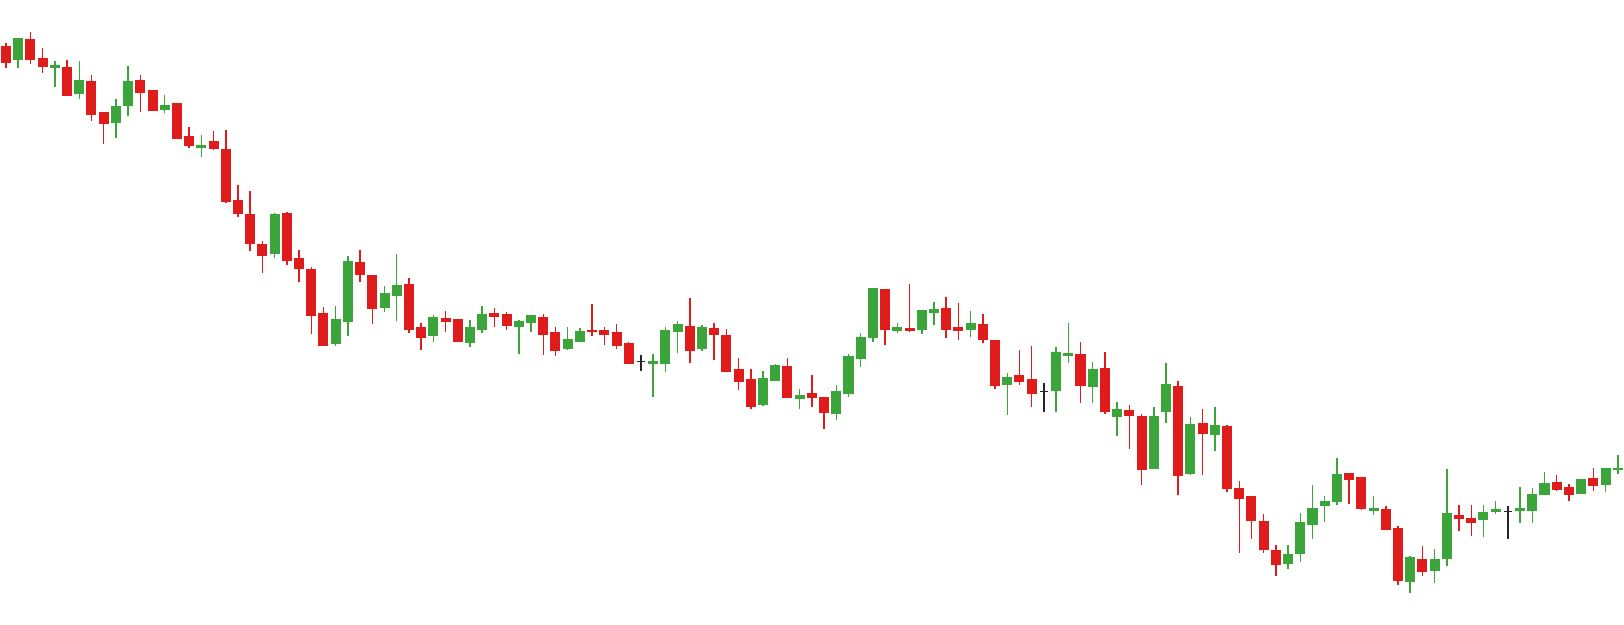buy: (1272, 491, 1417, 601)
sell: (685, 286, 894, 373)
